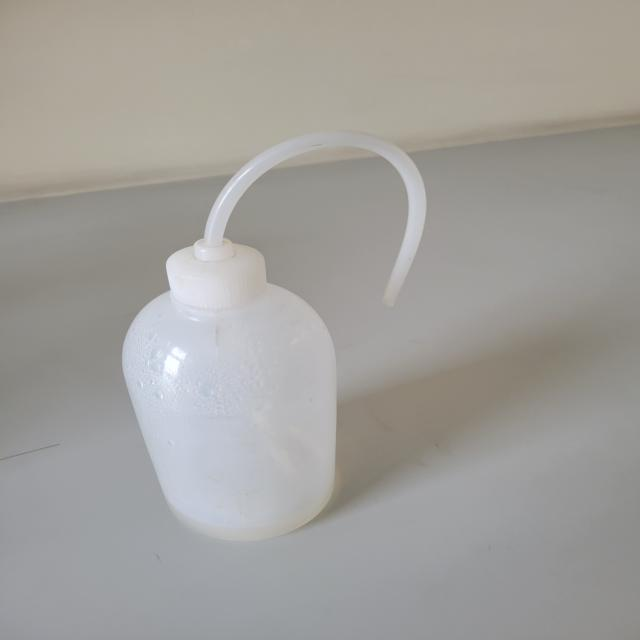Wash_Bottle: (96, 89, 487, 591)
